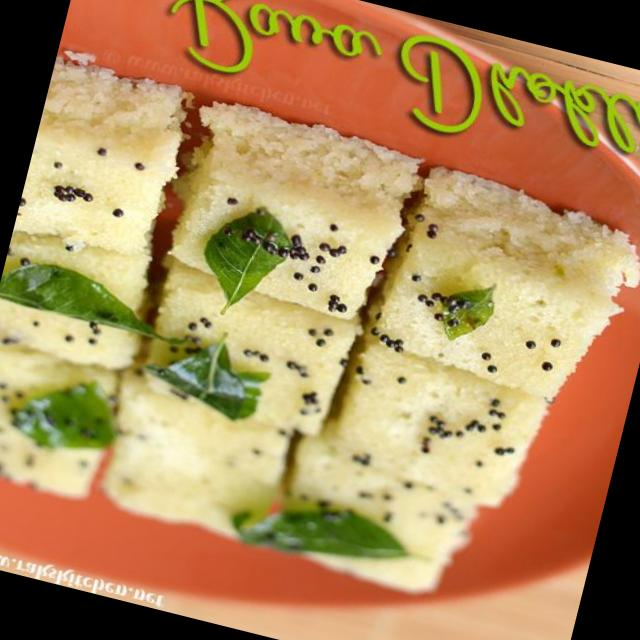dhokla: (0, 53, 640, 640)
